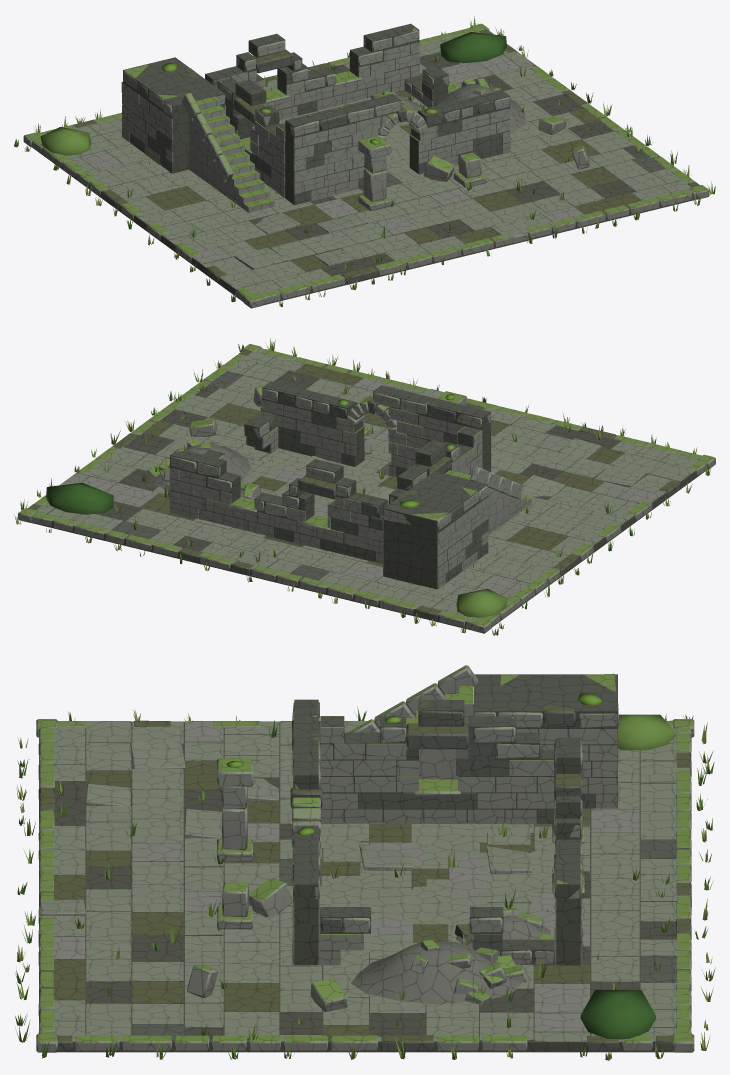
The model's file is small_ruin.glb.
3 views of the same model, one above another, from view 1: azimuth 30°, elevation 25°; view 2: azimuth 150°, elevation 25°; view 3: azimuth 270°, elevation 25° (orthographic). The views are drawn at different scales.
Visible parts, largest first — view 1: small_ruin.001; view 2: small_ruin.001; view 3: small_ruin.001.
Boxes of the visible parts, x1,y1,x2,y2 form: small_ruin.001: [14, 16, 715, 308]; small_ruin.001: [14, 338, 715, 635]; small_ruin.001: [15, 665, 715, 1060].
Size of what is drawn, in the model's own units: 22.3 by 4.19 by 19.42.
Materials: 11 (11 with a texture image).
